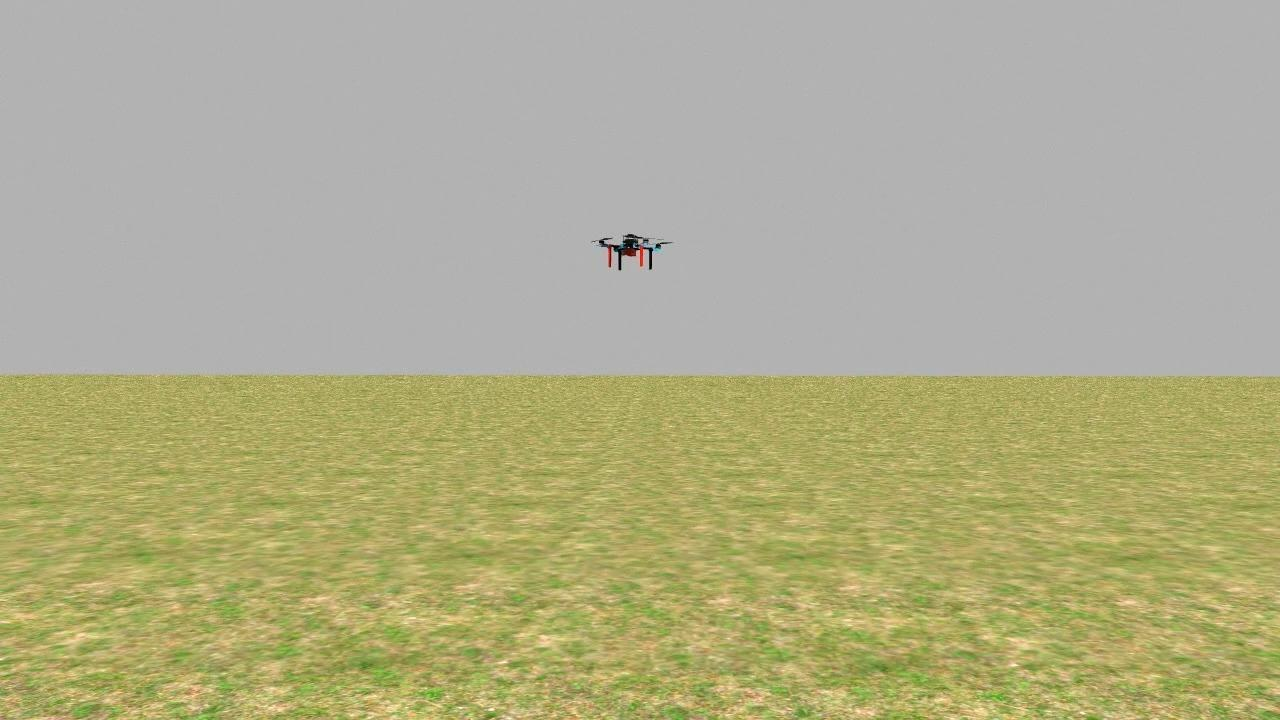UAV: (589, 224, 672, 274)
